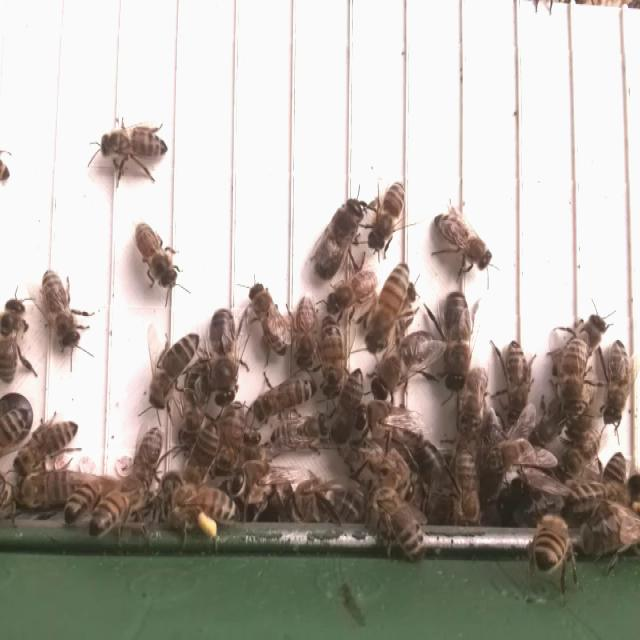Drone: (371, 327, 439, 403), (311, 191, 365, 283), (438, 287, 474, 396), (205, 308, 239, 412)
Worker: (147, 330, 202, 408), (366, 259, 409, 352), (431, 211, 494, 270), (14, 416, 79, 472), (135, 219, 182, 292), (41, 268, 82, 351), (368, 175, 409, 254), (248, 283, 290, 356), (253, 376, 317, 423), (96, 125, 170, 163), (267, 413, 332, 456), (600, 337, 630, 428), (329, 366, 364, 442), (131, 421, 166, 497), (558, 335, 590, 418), (326, 267, 379, 315), (503, 336, 530, 428), (0, 294, 27, 382), (320, 315, 346, 400), (291, 295, 317, 377)
